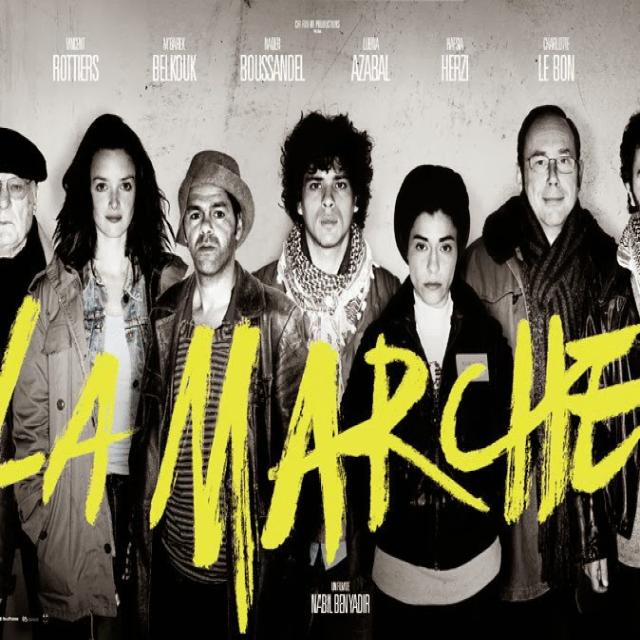body: (331, 150, 534, 638), (125, 148, 322, 638), (456, 101, 630, 639), (10, 111, 185, 618), (250, 109, 400, 407), (571, 109, 640, 640), (0, 121, 62, 635)
